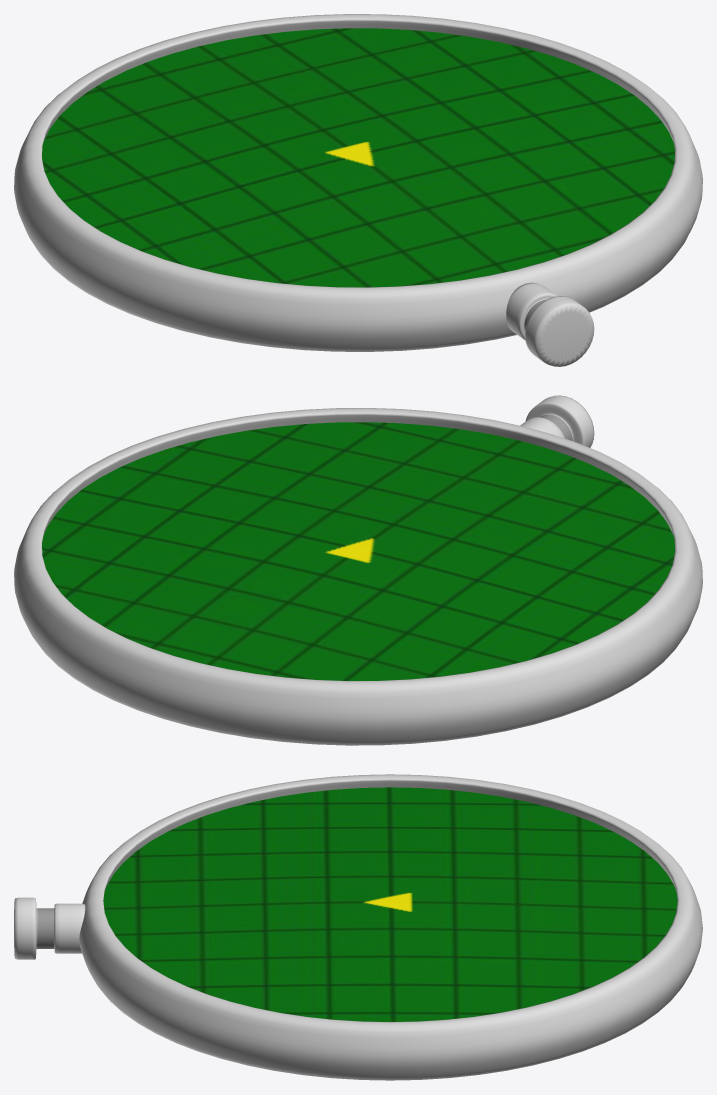
File: dragon_radar_fbd162.glb
The picture shows the model from 3 angles, top to bottom: view 1: azimuth 30°, elevation 25°; view 2: azimuth 150°, elevation 25°; view 3: azimuth 270°, elevation 25°; orthographic projection. The views are drawn at different scales.
Visible parts, largest first — view 1: Radar; view 2: Radar; view 3: Radar.
Part boxes in pixels (box(x1,y1,x2,y2)): Radar: box(14, 14, 702, 366); Radar: box(14, 395, 702, 745); Radar: box(14, 774, 702, 1080).
Size of the model in its own units: 24.45 by 2.49 by 26.96.
3 materials, 1 textured.
